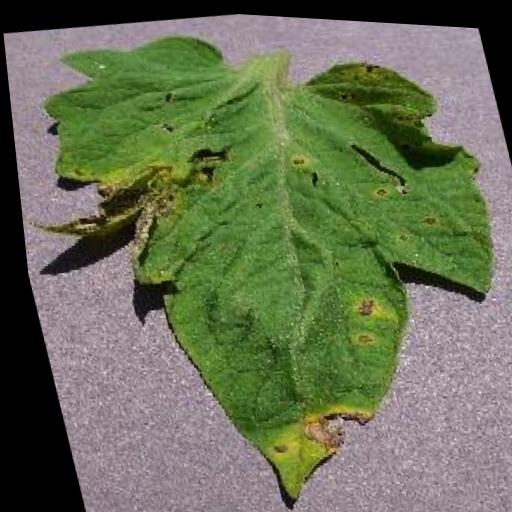Septoria: (21, 1, 512, 512)
